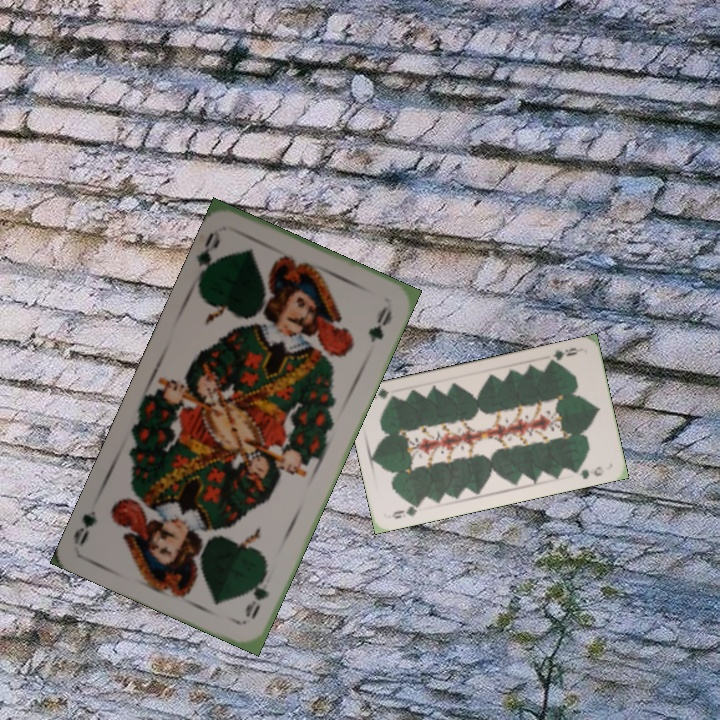G9: (545, 343, 584, 366), (388, 499, 423, 521)
GO: (193, 226, 224, 283), (241, 566, 272, 623)
